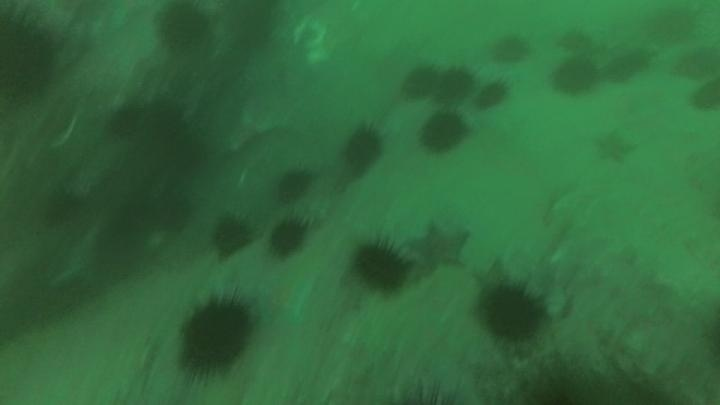echinus: (177, 293, 256, 378), (1, 9, 60, 104), (478, 282, 547, 345), (351, 237, 412, 295), (218, 2, 280, 53), (156, 3, 211, 53), (150, 134, 205, 181), (340, 123, 386, 175), (391, 376, 473, 405), (644, 5, 700, 46), (418, 110, 468, 155), (550, 55, 600, 98), (148, 188, 194, 234), (144, 97, 188, 144), (210, 213, 254, 259), (267, 217, 310, 260), (40, 186, 84, 228), (673, 44, 719, 84), (605, 46, 652, 85), (433, 65, 476, 104), (400, 63, 442, 102), (274, 167, 315, 204), (105, 103, 146, 140), (489, 33, 532, 66), (474, 79, 511, 112), (555, 26, 596, 55), (688, 77, 720, 114)
starfish: (406, 219, 472, 274), (254, 273, 316, 330), (591, 128, 639, 166)
